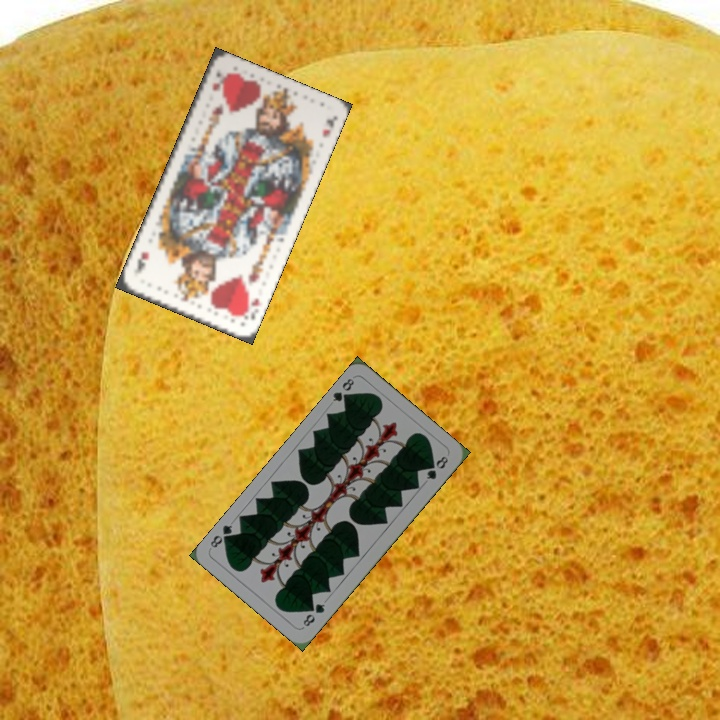G8: (328, 374, 357, 406), (299, 599, 328, 629)
HK: (238, 292, 263, 323), (207, 68, 223, 94)
